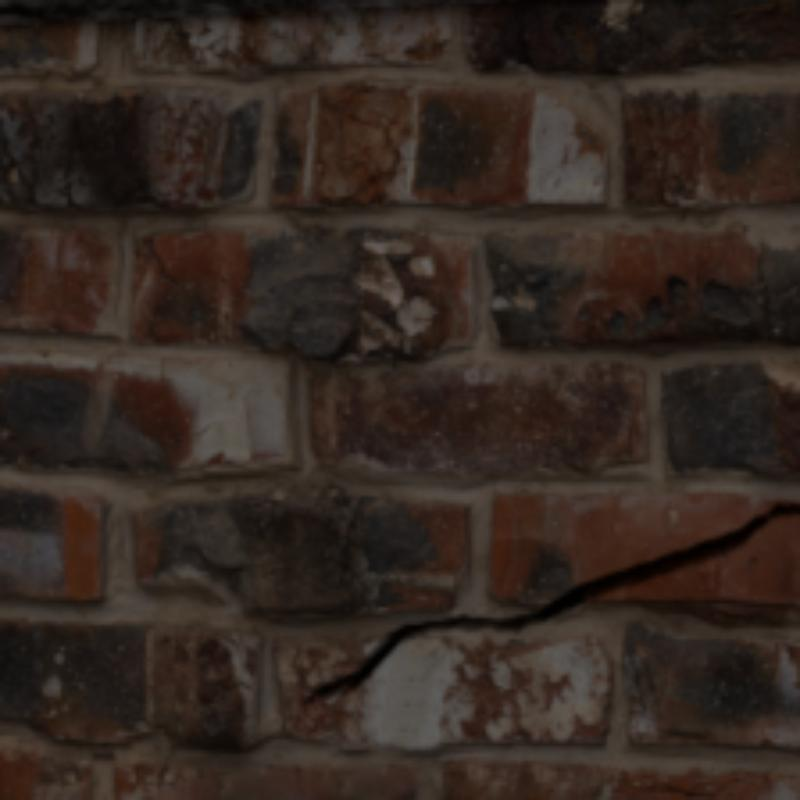pothole: (300, 504, 796, 707)
